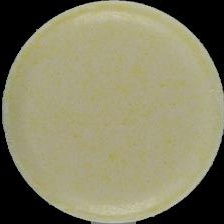0615-7935: (0, 0, 224, 224)
